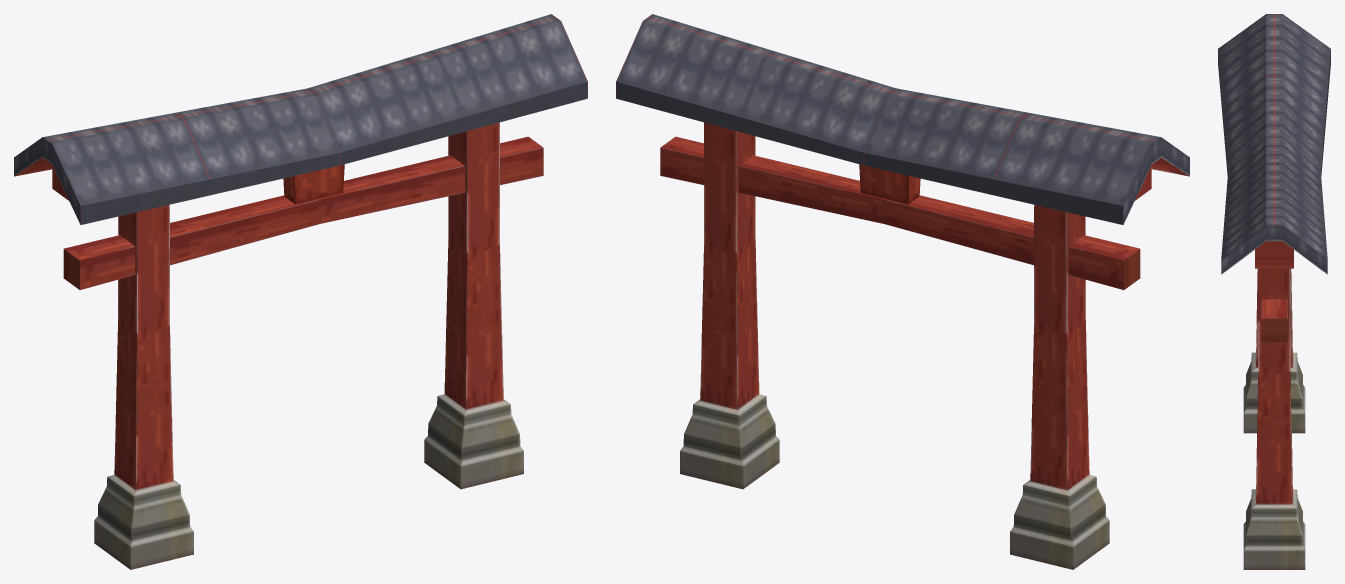
Rendered from Arch.fbx.
The picture shows the model from 3 angles, left to right: view 1: azimuth 30°, elevation 25°; view 2: azimuth 150°, elevation 25°; view 3: azimuth 270°, elevation 25°; orthographic projection. The views are drawn at different scales.
Parts seen in each view (by area): view 1: Archway; view 2: Archway; view 3: Archway.
Part boxes in pixels (x1=…): Archway: x1=14, y1=14, x2=587, y2=569; Archway: x1=616, y1=14, x2=1189, y2=569; Archway: x1=1218, y1=14, x2=1330, y2=569.
Size of the model in its own units: 497 by 402 by 112.
